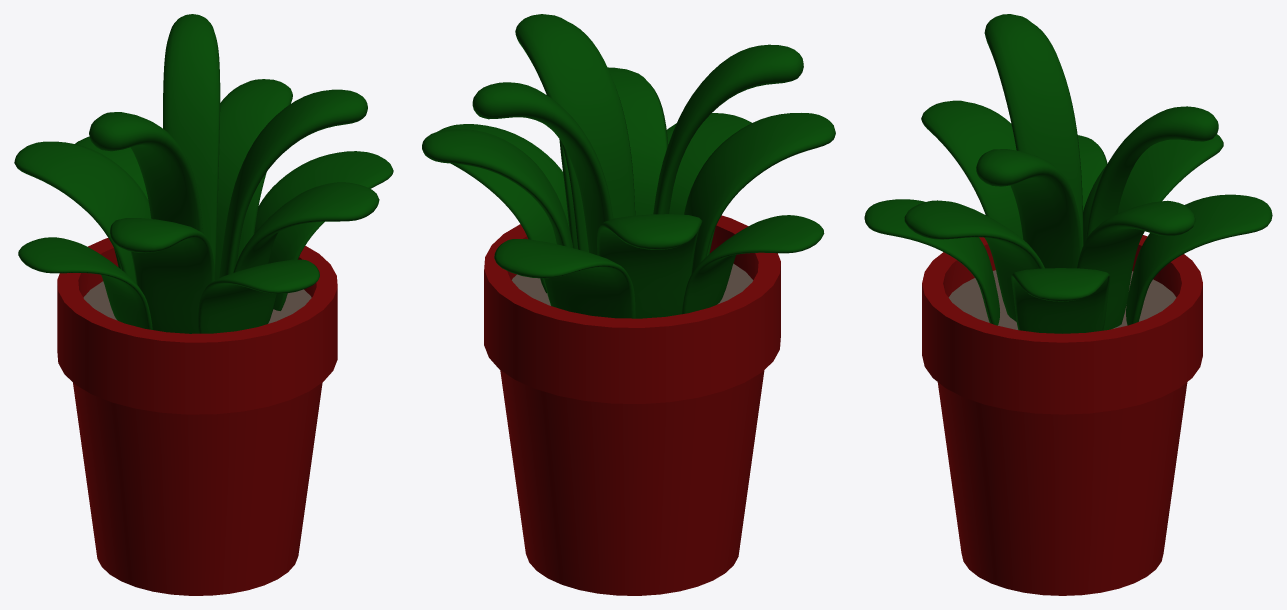
File: Plante2_4.fbx
3 views of the same model, side by side, from view 1: azimuth 30°, elevation 25°; view 2: azimuth 150°, elevation 25°; view 3: azimuth 270°, elevation 25° (orthographic). The views are drawn at different scales.
Parts seen in each view (by area): view 1: pCylinder730, pCube1938, pCube1935, pCube1929, pCube1937, pCube1939, pCube1931, pCube1934, pCube1933, pCube1930, pCube1936, pCylinder731 (+1 smaller); view 2: pCylinder730, pCube1937, pCube1935, pCube1929, pCube1932, pCube1939, pCube1938, pCube1930, pCube1931, pCube1936, pCube1933, pCube1934 (+1 smaller); view 3: pCylinder730, pCube1939, pCube1937, pCube1933, pCube1935, pCube1932, pCube1931, pCube1930, pCube1938, pCube1929, pCube1934, pCylinder731 (+1 smaller).
Part boxes in pixels (x1,y1,x2,y2): pCylinder730: (57,238,337,595); pCube1938: (163,14,220,278); pCube1935: (110,218,214,333); pCube1929: (14,141,151,282); pCube1937: (219,89,367,277); pCube1939: (89,112,203,233); pCube1931: (215,79,292,280); pCube1934: (198,259,319,333); pCube1933: (254,151,393,310); pCube1930: (233,182,379,272); pCube1936: (18,237,152,329); pCylinder731: (83,281,311,323); pCylinder730: (484,215,780,595); pCube1937: (515,14,635,252); pCube1935: (684,113,835,274); pCube1929: (597,214,702,318); pCube1932: (494,239,635,318); pCube1939: (653,44,803,214); pCube1938: (472,82,613,254); pCube1930: (559,67,668,249); pCube1931: (422,129,573,247); pCube1936: (681,215,824,314); pCube1933: (438,124,569,293); pCube1934: (666,113,751,256); pCylinder730: (922,235,1202,595); pCube1939: (984,14,1083,246); pCube1937: (976,149,1082,268); pCube1933: (1011,268,1110,333); pCube1935: (921,100,1022,238); pCube1932: (1126,194,1272,325); pCube1931: (1077,200,1195,330); pCube1930: (904,200,1044,321); pCube1938: (1085,106,1218,240); pCube1929: (1083,134,1223,244); pCube1934: (864,199,999,325); pCylinder731: (948,270,1176,329).
Bounding box in the file's own units: 16.65 × 21.16 × 16.27.
